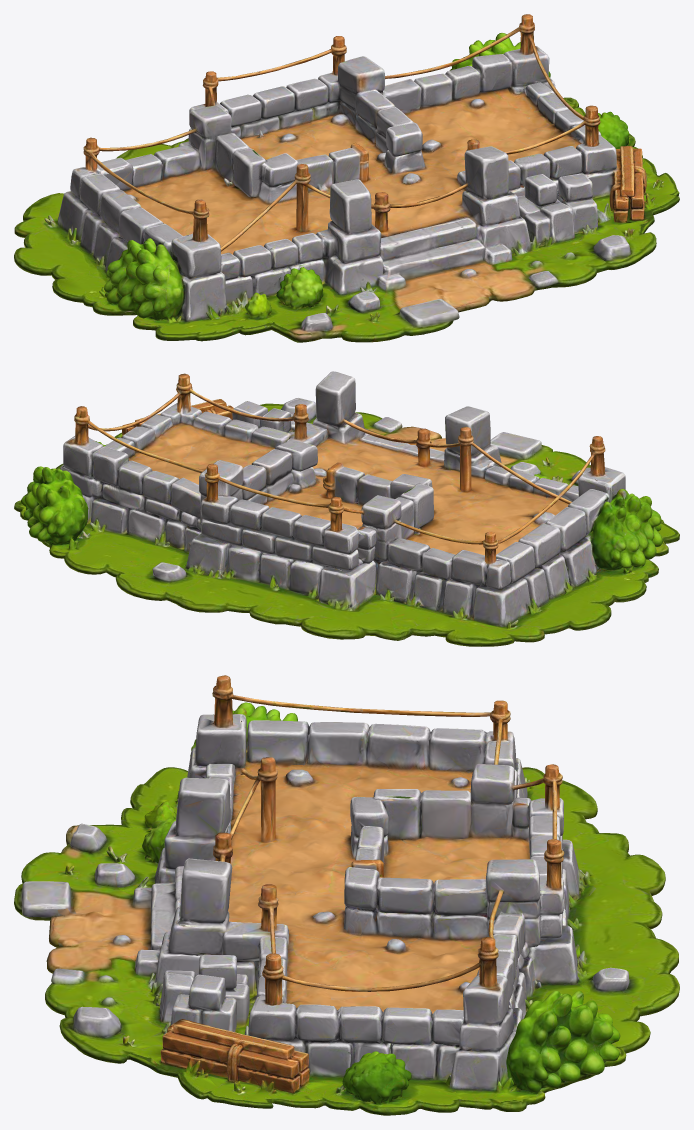
The model's file is ayuntamiento_e1.glb.
3 renders of one model, top to bottom at view 1: azimuth 30°, elevation 25°; view 2: azimuth 150°, elevation 25°; view 3: azimuth 270°, elevation 25°, orthographic. The views are drawn at different scales.
Size of the model in its own units: 1.9 by 0.3367 by 1.48.
1 material, 1 textured.
